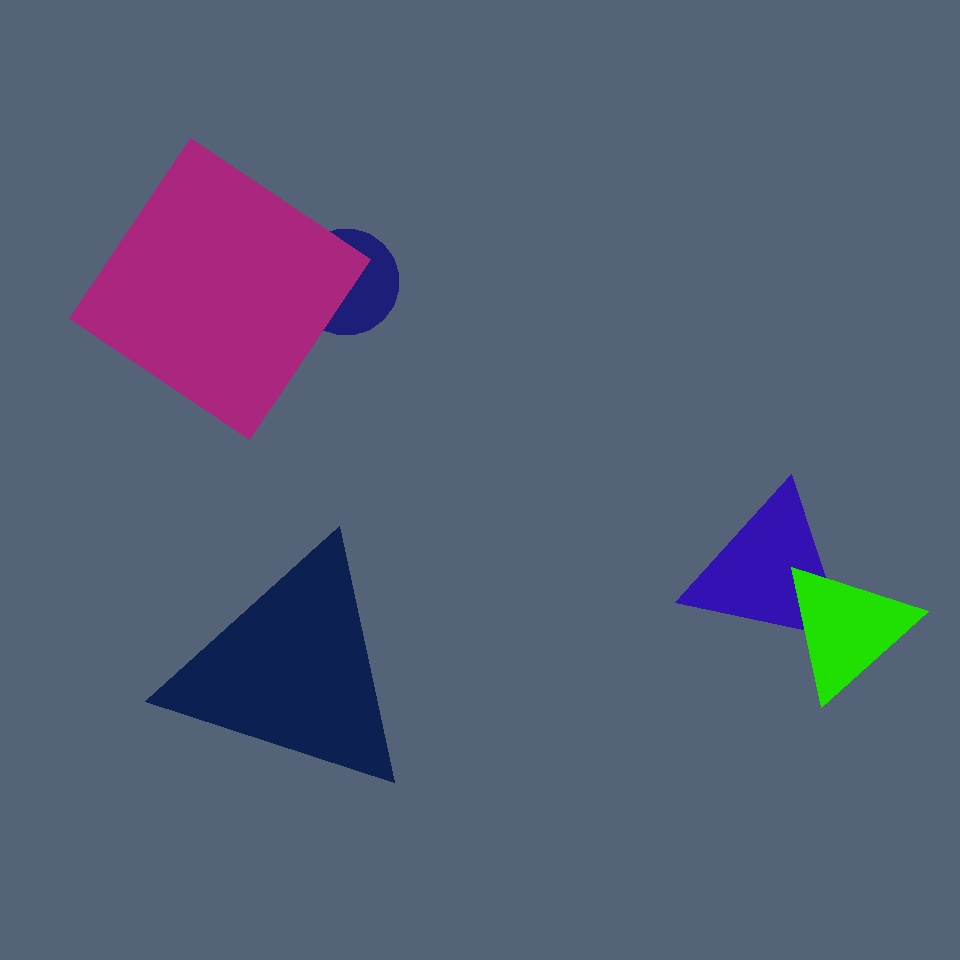circle: (168, 542, 418, 798), (686, 490, 856, 654), (779, 559, 916, 699)
square: (70, 138, 370, 439)
triangle: (294, 230, 398, 334)
